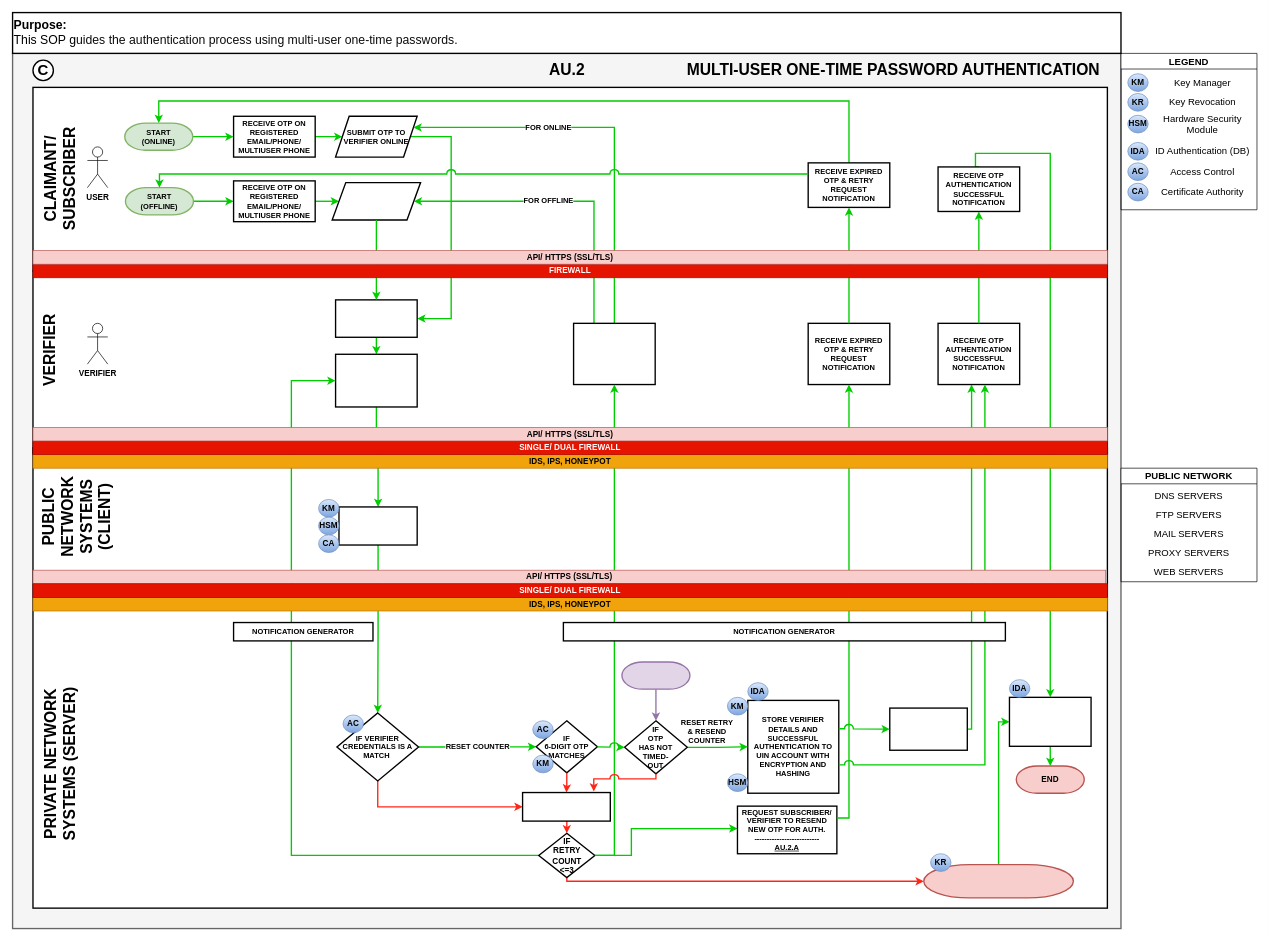
This 1269x940 diagram has some shape labels left out. The centre of each missing label's shape, as x and y in pixels:
"CONTINUE: 2FA AUTH" goes at (x=655, y=675).
"EXCEPTION AND ERROR HANDLING (COUNTER)" goes at (x=566, y=806).
"LOGS THE PROCESS AND STATUS" goes at (x=1049, y=721).
"MASKING & ENCRYPT UIN AND PASSWORD FOR AUTHENTICATION" goes at (x=378, y=525).
"MEMORABLE SECRET AUTH. -------------------------- AU.1.D" goes at (x=928, y=729).
"RECEIVE 6-DIGIT OTP" goes at (x=376, y=318).
"RECEIVE OTP AUTHENTICATION FAILURE NOTIFICATION" goes at (x=614, y=353).
"SEND THE 6-DIGIT OTP AND VERIFIER CREDENTIALS FOR AUTHENTICATION" goes at (x=376, y=380).
"SUBMIT OTP TO VERIFIER VERBALLY" goes at (x=376, y=201).
"TERMINATE PROCESS: LOCK UIN ACCOUNT FOR 24 HOURS" goes at (x=998, y=881).
